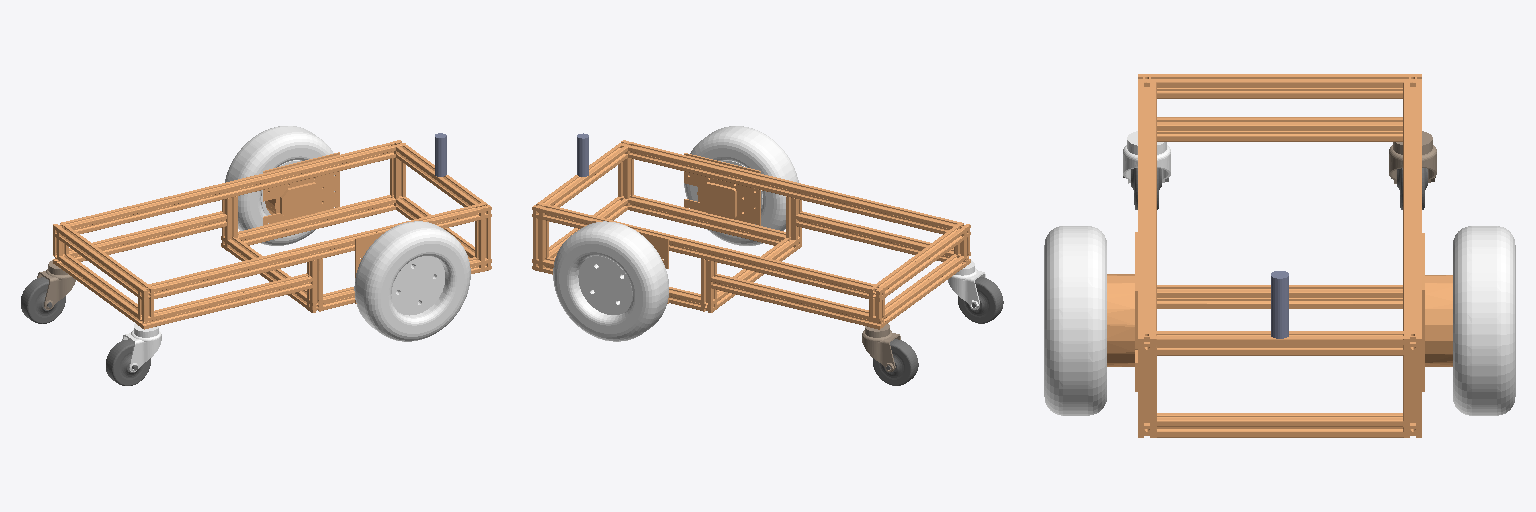
URDF robot description (myslam21):
<?xml version="1.0" encoding="utf-8"?>
<!-- This URDF was automatically created by SolidWorks to URDF Exporter! Originally created by [author] ([email redacted]) 
     Commit Version: 1.6.0-4-g7f85cfe  Build Version: 1.6.7995.38578
     For more information, please see http://wiki.ros.org/sw_urdf_exporter -->
<robot
  name="myslam21">
  <link
    name="base_footprint">
  </link>
  <link
    name="base_link">
    <inertial>
      <origin
        xyz="-0.074105 -4.3631E-08 0.0097349"
        rpy="0 0 0" />
      <mass
        value="1.4621" />
    <inertia
        ixx="0.0049825"
        ixy="2.9389E-17"
        ixz="-1.1192E-17"
        iyy="0.0089868"
        iyz="4.4695E-17"
        izz="0.0049825" />
    </inertial>
     
    <visual>
      <origin
        xyz="0 0 0"
        rpy="0 0 0" />
      <geometry>
        <mesh
          filename="package://myslam21/meshes/base_link.STL" />
      </geometry>
      <material
        name="">
        <color
          rgba="0.98824 0.73725 0.51765 1" />
      </material>
    </visual>
    <collision>
      <origin
        xyz="0 0 0"
        rpy="0 0 0" />
      <geometry>
        <mesh
          filename="package://myslam21/meshes/base_link.STL" />
      </geometry>
    </collision>
  </link>
  <joint
    name="base_joint"
    type="fixed">
    <origin
      xyz="0 0 0.1"
      rpy="0 0 0" />
    <parent
      link="base_footprint" />
    <child
      link="base_link" />
    <axis
      xyz="0 0 0" />
  </joint>
  <link
    name="left_wheel">
    <inertial>
      <origin
        xyz="-2.9346E-10 -0.0015289 7.2164E-16"
        rpy="0 0 0" />
      <mass
        value="1.6988" />
      <inertia
        ixx="0.0049825"
        ixy="2.9389E-17"
        ixz="-1.1192E-17"
        iyy="0.0089868"
        iyz="4.4695E-17"
        izz="0.0049825" />
    </inertial>
    <visual>
      <origin
        xyz="0 0 0"
        rpy="0 0 0" />
      <geometry>
        <mesh
          filename="package://myslam21/meshes/left_wheel.STL" />
      </geometry>
      <material
        name="">
        <color
          rgba="1 1 1 1" />
      </material>
    </visual>
    <collision>
      <origin
        xyz="0 0 0"
        rpy="0 0 0" />
      <geometry>
        <mesh
          filename="package://myslam21/meshes/left_wheel.STL" />
      </geometry>
    </collision>
  </link>
  <joint
    name="left_joint"
    type="continuous">
    <origin
      xyz="8.7574E-05 0.215 0"
      rpy="0 0 0" />
    <parent
      link="base_link" />
    <child
      link="left_wheel" />
    <axis
      xyz="0 1 0" />
  </joint>
  <link
    name="right_wheel">
    <inertial>
      <origin
        xyz="2.9346E-10 0.001529 1.0547E-15"
        rpy="0 0 0" />
      <mass
        value="1.6988" />
      <inertia
        ixx="0.0049825"
        ixy="4.1381E-17"
        ixz="-2.1476E-18"
        iyy="0.0089868"
        iyz="-2.0305E-17"
        izz="0.0049825" />
    </inertial>
    <visual>
      <origin
        xyz="0 0 0"
        rpy="0 0 0" />
      <geometry>
        <mesh
          filename="package://myslam21/meshes/right_wheel.STL" />
      </geometry>
      <material
        name="">
        <color
          rgba="1 1 1 1" />
      </material>
    </visual>
    <collision>
      <origin
        xyz="0 0 0"
        rpy="0 0 0" />
      <geometry>
        <mesh
          filename="package://myslam21/meshes/right_wheel.STL" />
      </geometry>
    </collision>
  </link>
  <joint
    name="right_joint"
    type="continuous">
    <origin
      xyz="-8.7574E-05 -0.215 0"
      rpy="0 0 0" />
    <parent
      link="base_link" />
    <child
      link="right_wheel" />
    <axis
      xyz="0 1 0" />
  </joint>
  <link
    name="caster_right_sup_link">
    <inertial>
      <origin
        xyz="-0.0057083 0.00018449 -0.017621"
        rpy="0 0 0" />
      <mass
        value="0.030986" />
      <inertia
        ixx="1.4804E-05"
        ixy="2.2843E-07"
        ixz="-4.3412E-06"
        iyy="1.5651E-05"
        iyz="2.7586E-07"
        izz="1.4627E-05" />
    </inertial>
    <visual>
      <origin
        xyz="0 0 0"
        rpy="0 0 0" />
      <geometry>
        <mesh
          filename="package://myslam21/meshes/caster_right_sup_link.STL" />
      </geometry>
      <material
        name="">
        <color
          rgba="1 1 1 1" />
      </material>
    </visual>
    <collision>
      <origin
        xyz="0 0 0"
        rpy="0 0 0" />
      <geometry>
        <mesh
          filename="package://myslam21/meshes/caster_right_sup_link.STL" />
      </geometry>
    </collision>
  </link>
  <joint
    name="caster_right_sup_joint"
    type="continuous">
    <origin
      xyz="-0.46269 -0.14 -0.0036566"
      rpy="0 0 0" />
    <parent
      link="base_link" />
    <child
      link="caster_right_sup_link" />
    <axis
      xyz="0 0 1" />
  </joint>
  <link
    name="caster_right_wheel_link">
    <inertial>
      <origin
        xyz="3.7102E-07 -2.382E-05 -5.5511E-17"
        rpy="0 0 0" />
      <mass
        value="0.11899" />
      <inertia
        ixx="4.7812E-05"
        ixy="-5.1783E-07"
        ixz="1.1714E-20"
        iyy="8.1049E-05"
        iyz="-3.9851E-19"
        izz="4.7803E-05" />
    </inertial>
    <visual>
      <origin
        xyz="0 0 0"
        rpy="0 0 0" />
      <geometry>
        <mesh
          filename="package://myslam21/meshes/caster_right_wheel_link.STL" />
      </geometry>
      <material
        name="">
        <color
          rgba="0.50196 0.50196 0.50196 1" />
      </material>
    </visual>
    <collision>
      <origin
        xyz="0 0 0"
        rpy="0 0 0" />
      <geometry>
        <mesh
          filename="package://myslam21/meshes/caster_right_wheel_link.STL" />
      </geometry>
    </collision>
  </link>
  <joint
    name="caster_right_wheel_joint"
    type="continuous">
    <origin
      xyz="-0.034264 -0.00053995 -0.058235"
      rpy="0 0 0" />
    <parent
      link="caster_right_sup_link" />
    <child
      link="caster_right_wheel_link" />
    <axis
      xyz="-0.015574 0.99988 0" />
  </joint>
  <link
    name="caster_left_sup_link">
    <inertial>
      <origin
        xyz="-0.0057095 0.0001554 -0.017621"
        rpy="0 0 0" />
      <mass
        value="0.030984" />
      <inertia
        ixx="1.4801E-05"
        ixy="2.2409E-07"
        ixz="-4.3424E-06"
        iyy="1.5653E-05"
        iyz="2.5372E-07"
        izz="1.4626E-05" />
    </inertial>
    <visual>
      <origin
        xyz="0 0 0"
        rpy="0 0 0" />
      <geometry>
        <mesh
          filename="package://myslam21/meshes/caster_left_sup_link.STL" />
      </geometry>
      <material
        name="">
        <color
          rgba="0.68627 0.62353 0.56078 1" />
      </material>
    </visual>
    <collision>
      <origin
        xyz="0 0 0"
        rpy="0 0 0" />
      <geometry>
        <mesh
          filename="package://myslam21/meshes/caster_left_sup_link.STL" />
      </geometry>
    </collision>
  </link>
  <joint
    name="caster_left_sup_joint"
    type="continuous">
    <origin
      xyz="-0.46269 0.14 -0.0036566"
      rpy="0 0 0" />
    <parent
      link="base_link" />
    <child
      link="caster_left_sup_link" />
    <axis
      xyz="0 0 1" />
  </joint>
  <link
    name="caster_left_wheel_link">
    <inertial>
      <origin
        xyz="-4.9244E-07 2.3818E-05 6.6613E-16"
        rpy="0 0 0" />
      <mass
        value="0.11899" />
      <inertia
        ixx="4.7818E-05"
        ixy="-6.8723E-07"
        ixz="6.1491E-21"
        iyy="8.1042E-05"
        iyz="2.3118E-19"
        izz="4.7803E-05" />
    </inertial>
    <visual>
      <origin
        xyz="0 0 0"
        rpy="0 0 0" />
      <geometry>
        <mesh
          filename="package://myslam21/meshes/caster_left_wheel_link.STL" />
      </geometry>
      <material
        name="">
        <color
          rgba="0.50196 0.50196 0.50196 1" />
      </material>
    </visual>
    <collision>
      <origin
        xyz="0 0 0"
        rpy="0 0 0" />
      <geometry>
        <mesh
          filename="package://myslam21/meshes/caster_left_wheel_link.STL" />
      </geometry>
    </collision>
  </link>
  <joint
    name="caster_left_wheel_joint"
    type="continuous">
    <origin
      xyz="-0.034261 -0.00070211 -0.058233"
      rpy="0 0 0" />
    <parent
      link="caster_left_sup_link" />
    <child
      link="caster_left_wheel_link" />
    <axis
      xyz="0.020671 -0.99979 0" />
  </joint>
  <link
    name="hokuyo_link">
    <inertial>
      <origin
        xyz="-2.2204E-16 5.5511E-17 -0.035"
        rpy="0 0 0" />
      <mass
        value="0.021991" />
      <inertia
        ixx="9.5295E-06"
        ixy="6.0993E-25"
        ixz="-4.1792E-21"
        iyy="9.5295E-06"
        iyz="4.6903E-21"
        izz="1.0996E-06" />
    </inertial>
    <visual>
      <origin
        xyz="0 0 0"
        rpy="0 0 0" />
      <geometry>
        <mesh
          filename="package://myslam21/meshes/hokuyo_link.STL" />
      </geometry>
      <material
        name="">
        <color
          rgba="0.56078 0.58431 0.68627 1" />
      </material>
    </visual>
    <collision>
      <origin
        xyz="0 0 0"
        rpy="0 0 0" />
      <geometry>
        <mesh
          filename="package://myslam21/meshes/hokuyo_link.STL" />
      </geometry>
    </collision>
  </link>
  <joint
    name="hokuyo_joint"
    type="fixed">
    <origin
      xyz="0.17731 0 0.13634"
      rpy="0 0 0" />
    <parent
      link="base_link" />
    <child
      link="hokuyo_link" />
    <axis
      xyz="0 0 0" />
  </joint>







  

  <!-- <transmission name="left_wheel_transmission">
  <type>transmission_interface/SimpleTransmission</type>
  <joint name="left_joint">
    <hardwareInterface>hardware_interface/VelocityJointInterface</hardwareInterface>  
  </joint>
  <actuator name="left_wheel_actuator">
     <mechanicalReduction>1</mechanicalReduction> 
    <hardwareInterface>VelocityJointInterface</hardwareInterface>
  </actuator>
</transmission>

<transmission name="right_wheel_transmission">
  <type>transmission_interface/SimpleTransmission</type>
  <joint name="right_joint">
    <hardwareInterface>hardware_interface/VelocityJointInterface</hardwareInterface>  
  </joint>
  <actuator name="right_wheel_actuator">
     <mechanicalReduction>1</mechanicalReduction> 
    <hardwareInterface>VelocityJointInterface</hardwareInterface>
  </actuator>
</transmission>


   <gazebo>

     <plugin name="SARA_controller manager" filename="libgazebo_ros_control.so">
     <commandTopic>/cmd_vel</commandTopic>
      <odometryTopic>/odom</odometryTopic>
      <odometryFrame>/odom</odometryFrame>
      <publishWheelTF>true</publishWheelTF>
      <wheelTorque>10</wheelTorque>
      <robotBaseFrame>base_footprint</robotBaseFrame>

     </plugin>

    </gazebo>   -->
 



 <gazebo>
    <plugin name="turtlebot3_waffle_controller" filename="libgazebo_ros_diff_drive.so">
      <alwaysOn>true</alwaysOn>
      <commandTopic>cmd_vel</commandTopic>
      <odometryTopic>odom</odometryTopic>
      <odometryFrame>odom</odometryFrame>
      <odometrySource>world</odometrySource>
      <publishOdomTF>true</publishOdomTF>
      <robotBaseFrame>base_footprint</robotBaseFrame>
      <publishWheelTF>true</publishWheelTF>
      <publishTf>true</publishTf>
      <publishWheelJointState>true</publishWheelJointState>
      <legacyMode>false</legacyMode>
      <updateRate>30</updateRate>
      <leftJoint>left_joint</leftJoint>
      <rightJoint>right_joint</rightJoint>
      <wheelSeparation>0.43</wheelSeparation>
      <wheelDiameter>0.21</wheelDiameter>
      <wheelAcceleration>1</wheelAcceleration>
      <wheelTorque>200</wheelTorque>
      <rosDebugLevel>na</rosDebugLevel>
    </plugin>
  </gazebo>  

<!-- 


<gazebo reference="base_link">
    <material>Gazebo/DarkGrey</material>
  </gazebo>

  <gazebo reference="left_wheel">
  <mu1>200</mu1>
    <mu2>100</mu2>
     <kp>10000000.0</kp>
    <kd>10.0</kd> 
     <minDepth>0.001</minDepth>
   <maxVel>3</maxVel> 
    <fdir1>1 0 0</fdir1>
    <material>Gazebo/FlatBlack</material>
  </gazebo>

   

  <gazebo reference="right_wheel">
    <mu1>200</mu1>
    <mu2>100</mu2>
     <kp>10000000.0</kp>
    <kd>10.0</kd> 
    <minDepth>0.001</minDepth>
     <maxVel>3</maxVel> 
    <fdir1>1 0 0</fdir1>
    <material>Gazebo/FlatBlack</material>
  </gazebo>

  

  <gazebo reference="caster_left_sup_link">
   <mu1>0.00</mu1>
    <mu2>0.00</mu2>
     <kp>1000000.0</kp>
    <kd>100.0</kd>
    <minDepth>0.001</minDepth>
    
    <material>Gazebo/FlatBlack</material>
  </gazebo>

  <gazebo reference="caster_right_sup_link">
   <mu1>0.00</mu1>
    <mu2>0.00</mu2>
    <kp>1000000.0</kp>
    <kd>100.0</kd>
    <minDepth>0.001</minDepth>
    
    <material>Gazebo/FlatBlack</material>
  </gazebo>

 
  <gazebo reference="caster_left_wheel_link">
    <mu1>200</mu1>
    <mu2>100</mu2>
     <kp>1000000.0</kp>
    <kd>100.0</kd>
    <minDepth>0.4</minDepth>
    <maxVel>1.0</maxVel> 
    <material>Gazebo/FlatBlack</material>
  </gazebo> 
  

   <gazebo reference="caster_right_wheel_link">
  <mu1>200</mu1>
    <mu2>100</mu2>
    <kp>1000000.0</kp>
    <kd>100.0</kd>
    <minDepth>0.001</minDepth>
    <maxVel>1.0</maxVel>  
    <material>Gazebo/FlatBlack</material>
  </gazebo>  

-->

  


 <gazebo reference="hokuyo_link">
    <material>Gazebo/FlatBlack</material>
    <sensor type="ray" name="lds_lfcd_sensor">
      <pose>0 0 0 0 0 0</pose>
      <visualize>true</visualize>
      <update_rate>5</update_rate>
      <ray>
        <scan>
          <horizontal>
            <samples>24</samples>
            <resolution>1</resolution>
            <min_angle>-1.57</min_angle>
            <max_angle>1.57</max_angle>
          </horizontal>
        </scan>
        <range>
          <min>0.120</min>
          <max>3.5</max>
          <resolution>0.015</resolution>
        </range>
        <noise>
          <type>gaussian</type>
          <mean>0.0</mean>
          <stddev>0.01</stddev>
        </noise>
      </ray>
      <plugin name="gazebo_ros_lds_lfcd_controller" filename="libgazebo_ros_laser.so">
        <topicName>scan</topicName>
        <frameName>hokuyo_link</frameName>
      </plugin>
    </sensor>
  </gazebo>





</robot>

--- Render facts (derived) ---
3 views of the same robot in one strip: view 1: azimuth 30°, elevation 25°; view 2: azimuth 150°, elevation 25°; view 3: azimuth 270°, elevation 25° (orthographic).
Robot: myslam21 — 9 links, 8 joints (6 continuous, 2 fixed); root link base_footprint; default pose: every joint at zero.
Visible links, largest first — view 1: base_link, right_wheel, left_wheel, caster_right_wheel_link, caster_left_wheel_link, caster_right_sup_link, caster_left_sup_link; view 2: base_link, left_wheel, right_wheel, caster_left_wheel_link, caster_right_wheel_link, caster_left_sup_link, caster_right_sup_link; view 3: base_link, left_wheel, right_wheel, hokuyo_link, caster_left_sup_link, caster_right_sup_link.
Link boxes in pixels (bbox=[...]): base_link: bbox=[53, 140, 491, 329]; right_wheel: bbox=[354, 221, 470, 341]; left_wheel: bbox=[225, 126, 334, 245]; caster_right_wheel_link: bbox=[106, 339, 150, 385]; caster_left_wheel_link: bbox=[21, 277, 65, 323]; caster_right_sup_link: bbox=[122, 323, 161, 371]; caster_left_sup_link: bbox=[37, 260, 75, 309]; base_link: bbox=[532, 140, 970, 329]; left_wheel: bbox=[553, 221, 668, 341]; right_wheel: bbox=[684, 126, 798, 245]; caster_left_wheel_link: bbox=[873, 339, 918, 385]; caster_right_wheel_link: bbox=[958, 277, 1003, 323]; caster_left_sup_link: bbox=[862, 324, 900, 371]; caster_right_sup_link: bbox=[948, 260, 985, 309]; base_link: bbox=[1107, 74, 1452, 437]; left_wheel: bbox=[1453, 226, 1515, 415]; right_wheel: bbox=[1044, 226, 1106, 415]; hokuyo_link: bbox=[1271, 271, 1288, 338]; caster_left_sup_link: bbox=[1389, 131, 1436, 183]; caster_right_sup_link: bbox=[1123, 131, 1170, 183].
Size in the robot's own frame: 0.7223 by 0.496 by 0.2363 metres.
Meshes: 8 distinct files referenced, 8 mesh visuals loaded (8 binary STL).
